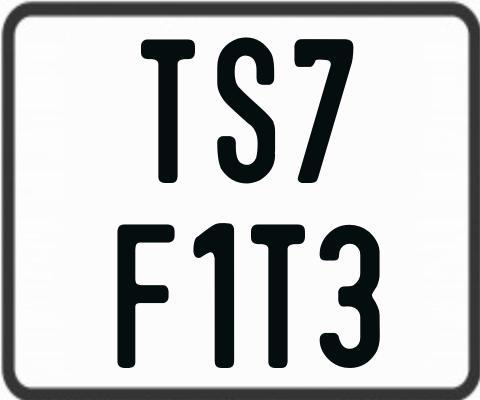1: (190, 222, 233, 370)
3: (318, 223, 381, 366)
7: (292, 36, 356, 180)
F: (114, 224, 173, 371)
S: (215, 36, 275, 187)
T: (138, 37, 196, 182), (251, 224, 309, 368)
